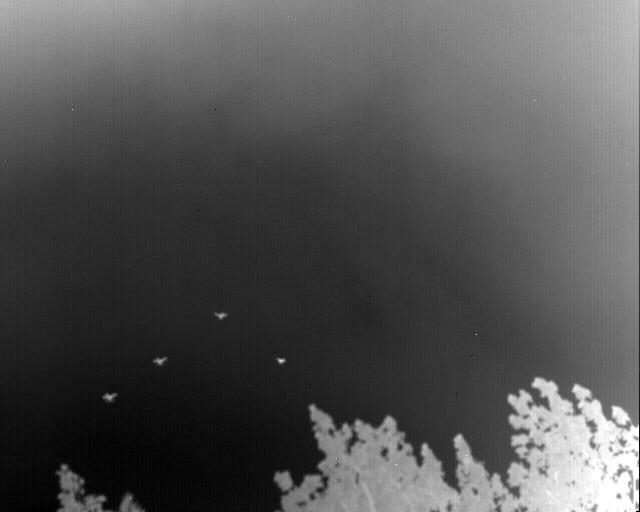plane: (152, 356, 167, 365), (102, 392, 117, 401), (214, 312, 228, 320), (276, 357, 286, 364)
